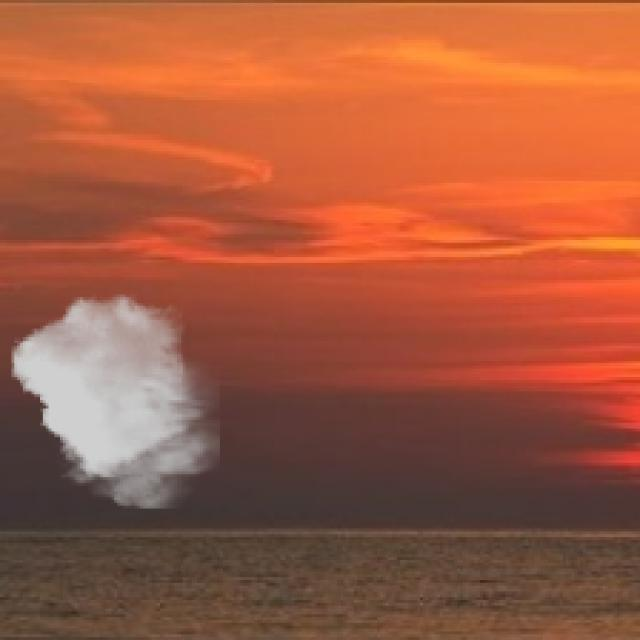smoke: (11, 294, 220, 509)
